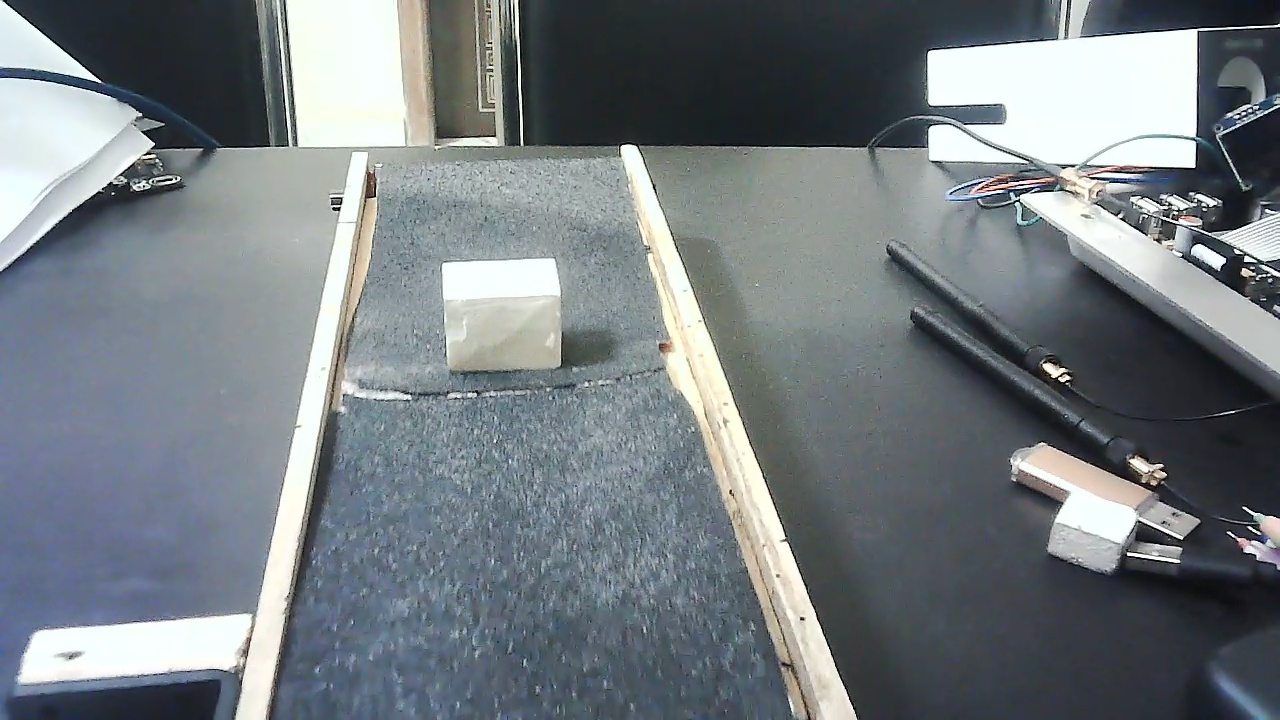Medium: (442, 254, 564, 376)
